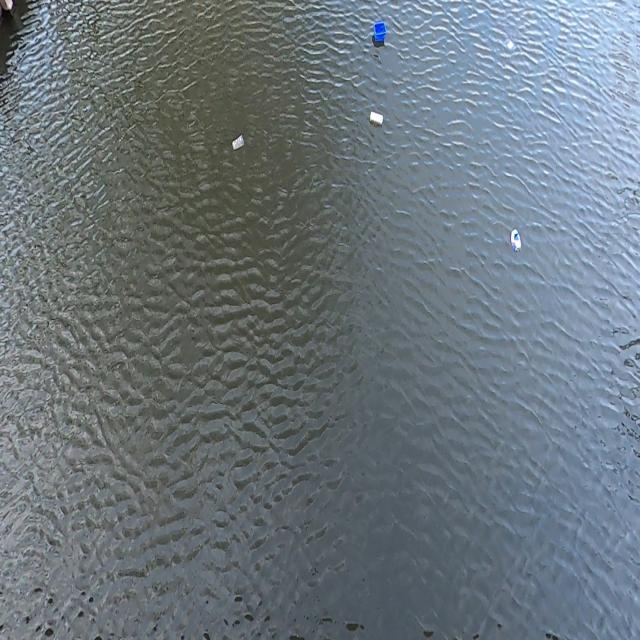Autre plastique: (369, 16, 388, 50)
Non plastique: (367, 105, 385, 133), (508, 228, 524, 257)
